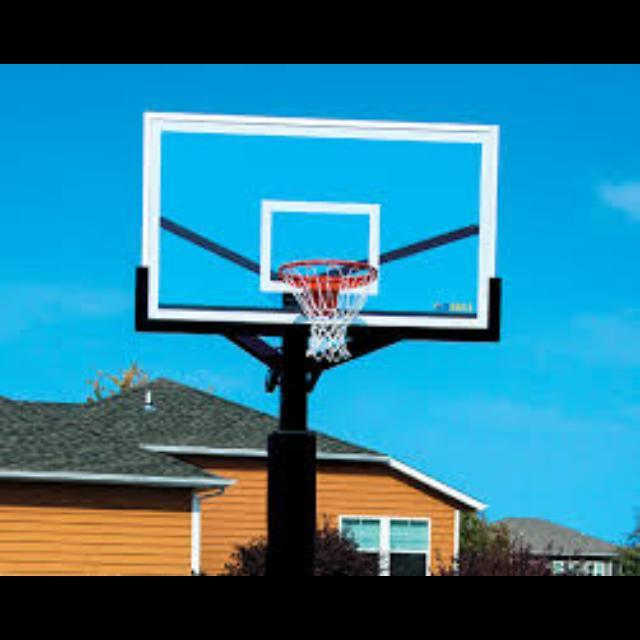rim: (280, 259, 378, 359)
